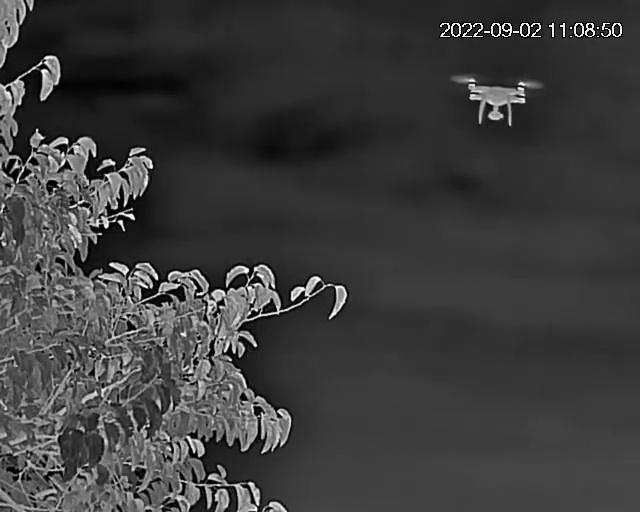DJI-Phantom: (451, 74, 544, 127)
